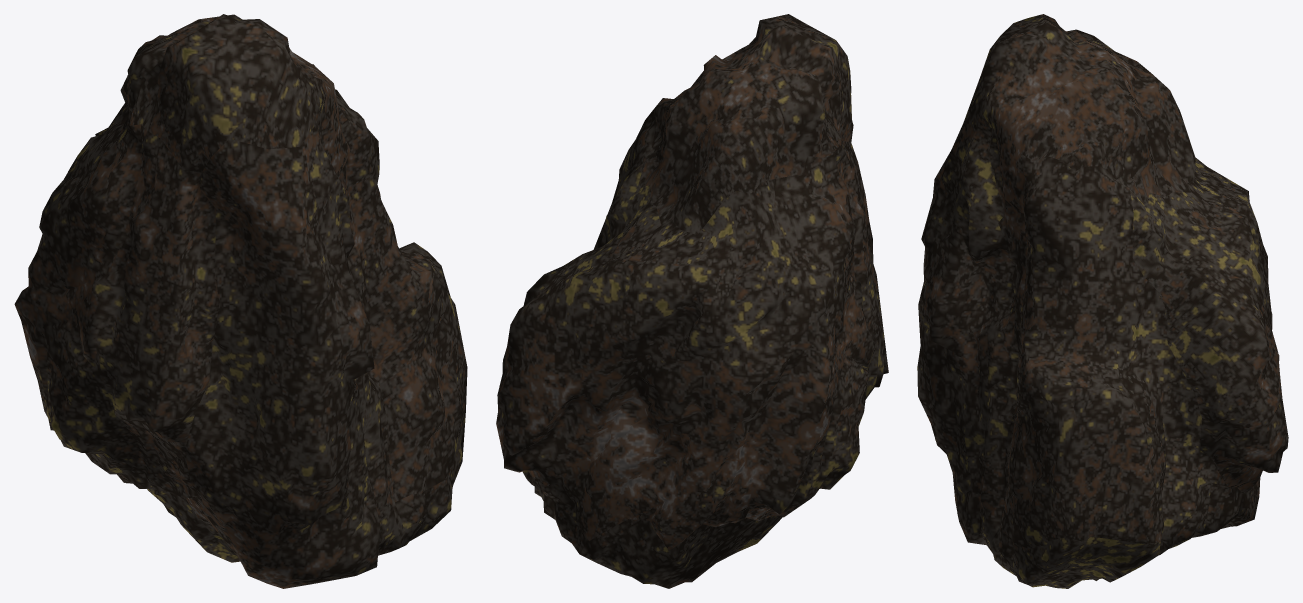
The model's file is SM_rock_01_brown.fbx.
3 renders of one model, left to right at view 1: azimuth 30°, elevation 25°; view 2: azimuth 150°, elevation 25°; view 3: azimuth 270°, elevation 25°, orthographic. The views are drawn at different scales.
Visible parts, largest first — view 1: SM_rock_01_brown_LOD0; view 2: SM_rock_01_brown_LOD0; view 3: SM_rock_01_brown_LOD0.
Part boxes in pixels (x1,y1,x2,y2): SM_rock_01_brown_LOD0: (14,14,467,588); SM_rock_01_brown_LOD0: (496,14,888,588); SM_rock_01_brown_LOD0: (917,14,1288,588).
Size of the model in its own units: 237 by 228 by 345.
1 material, 1 textured.
